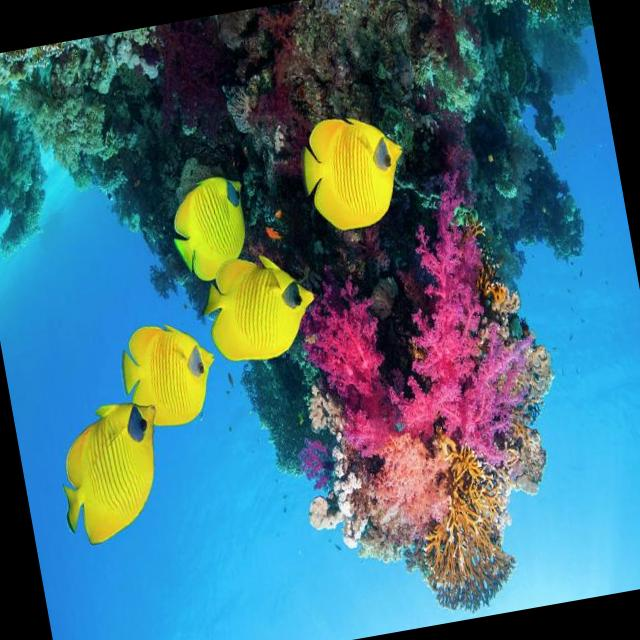ButterflyFish: (36, 389, 174, 552), (296, 95, 424, 249), (193, 248, 332, 377), (117, 310, 224, 462), (152, 148, 272, 277)
